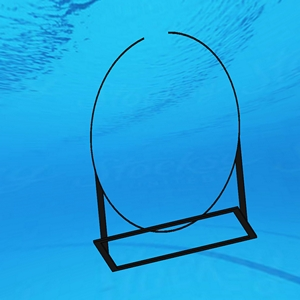circle: (89, 29, 261, 274)
